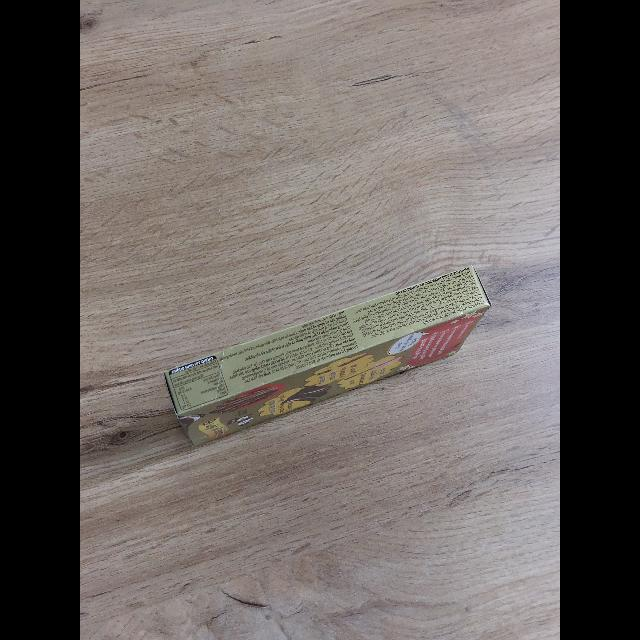banh_toppo_socola: (165, 266, 490, 445)
